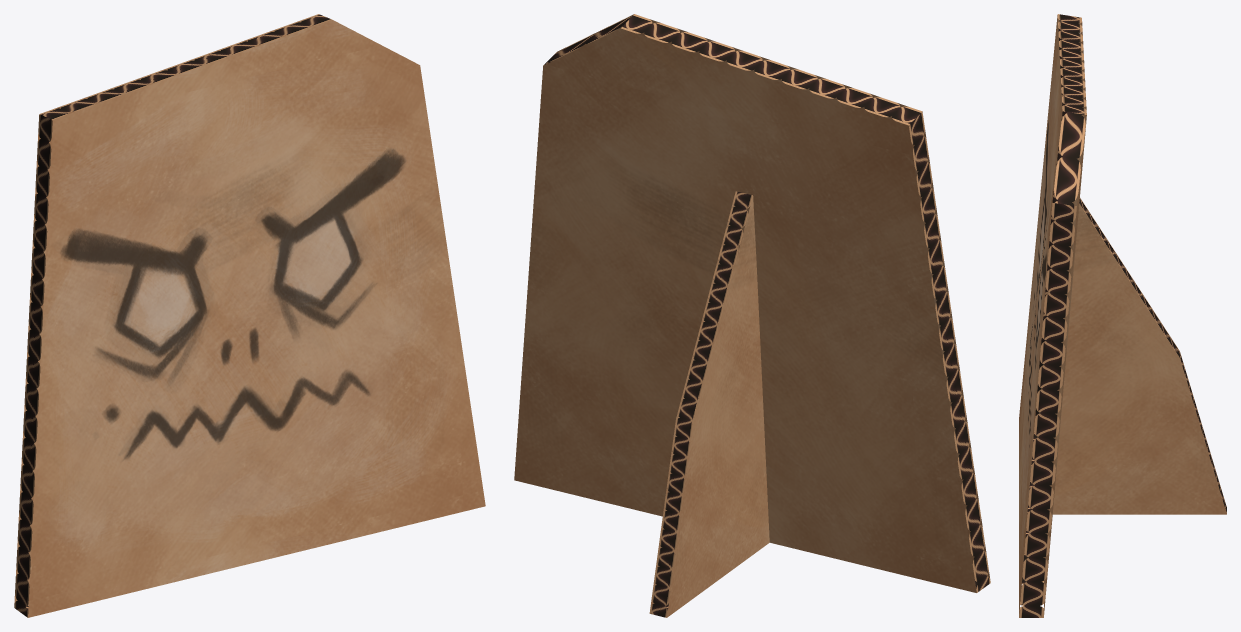
The model's file is Carboard Cut Out Monster.fbx.
3 views of the same model, side by side, from view 1: azimuth 30°, elevation 25°; view 2: azimuth 150°, elevation 25°; view 3: azimuth 270°, elevation 25° (orthographic). The views are drawn at different scales.
Parts seen in each view (by area): view 1: Cardboard Cut-Out; view 2: Cardboard Cut-Out; view 3: Cardboard Cut-Out.
Boxes of the visible parts, <box> form: Cardboard Cut-Out: <box>14,14,485,617</box>; Cardboard Cut-Out: <box>514,14,990,617</box>; Cardboard Cut-Out: <box>1019,14,1226,617</box>.
Size of the model in its own units: 76.35 by 79.78 by 33.37.
